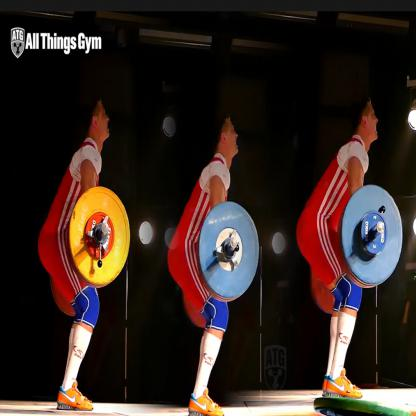Barbell: (339, 177, 408, 292), (193, 193, 264, 304), (66, 182, 133, 288)
